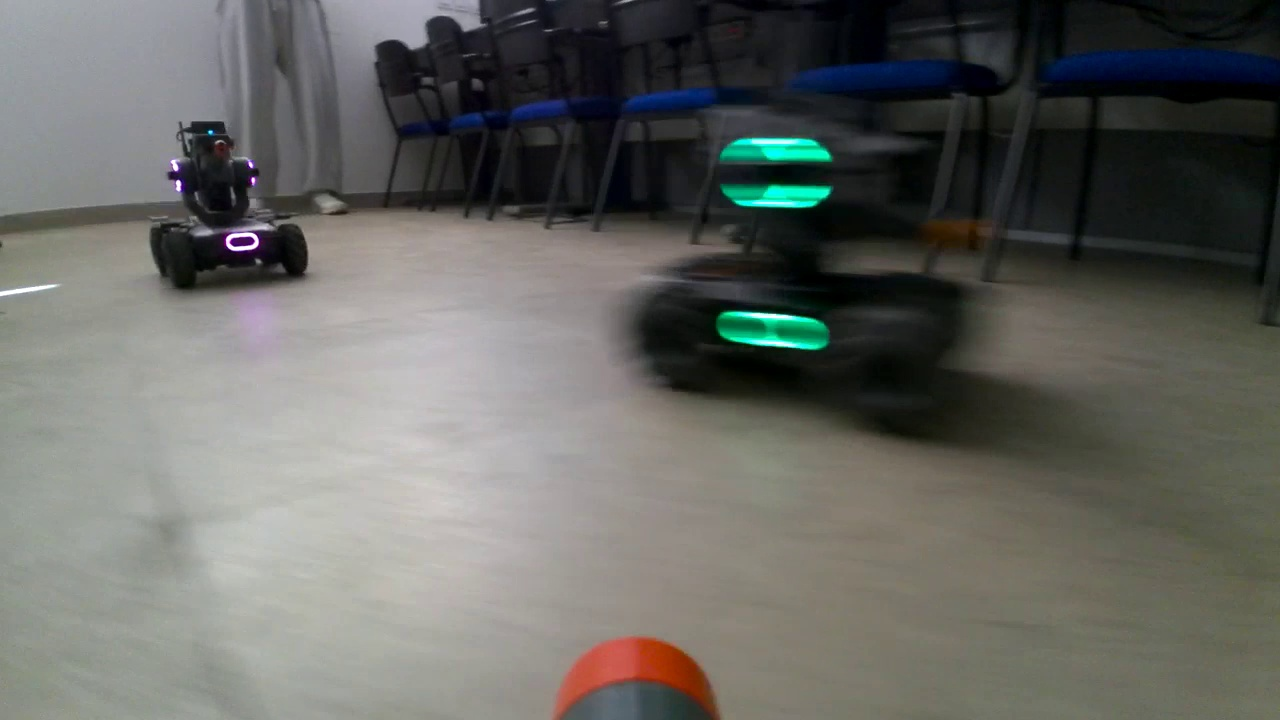robot: (629, 104, 967, 400), (149, 118, 311, 279)
